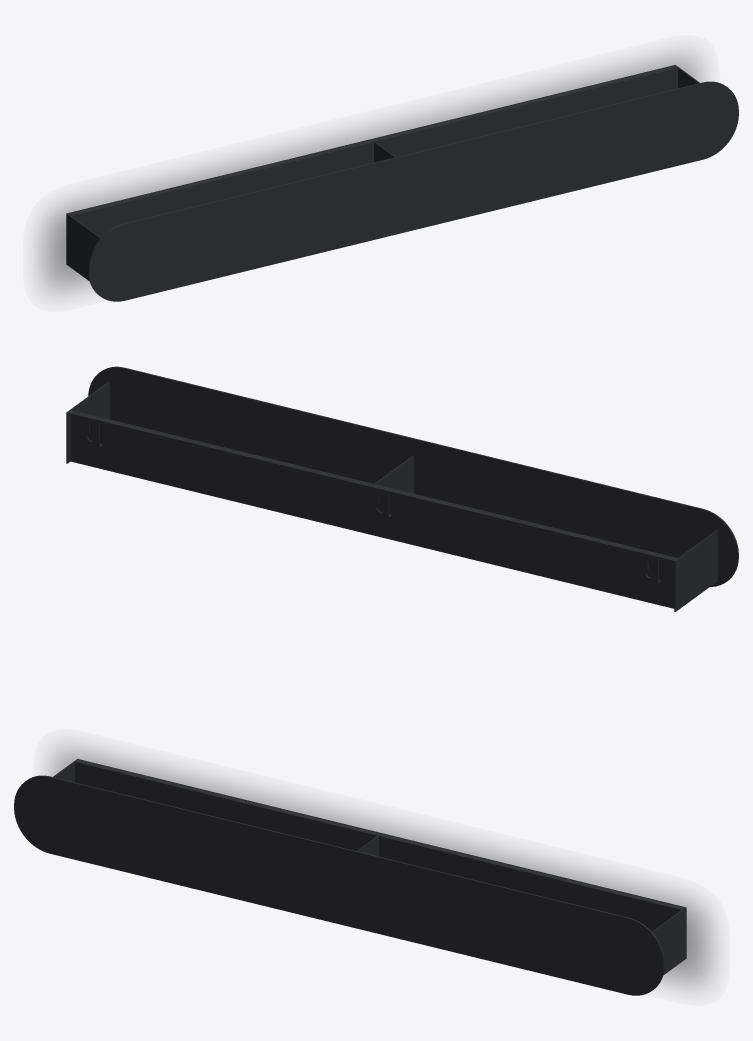
File: round-mono.19925d33b0.ar.glb
3 views of the same model, one above another, from view 1: azimuth 30°, elevation 25°; view 2: azimuth 150°, elevation 25°; view 3: azimuth 330°, elevation 25° (orthographic).
Visible parts, largest first — view 1: NAUO1, object 2; view 2: NAUO1; view 3: NAUO1, object 2.
Part boxes in pixels (<box>): NAUO1: <box>66,65,738,301</box>; object 2: <box>38,53,703,293</box>; NAUO1: <box>66,366,738,611</box>; NAUO1: <box>14,759,686,995</box>; object 2: <box>49,747,714,987</box>.
Bounding box in the file's own units: 0.88 × 0.17 × 0.092.
2 materials, 1 textured.
